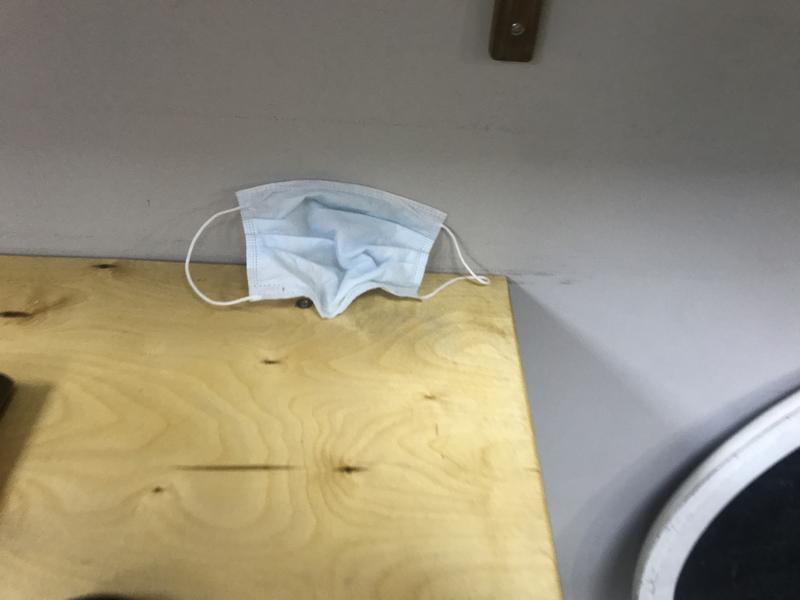medical_mask: (185, 179, 490, 318)
